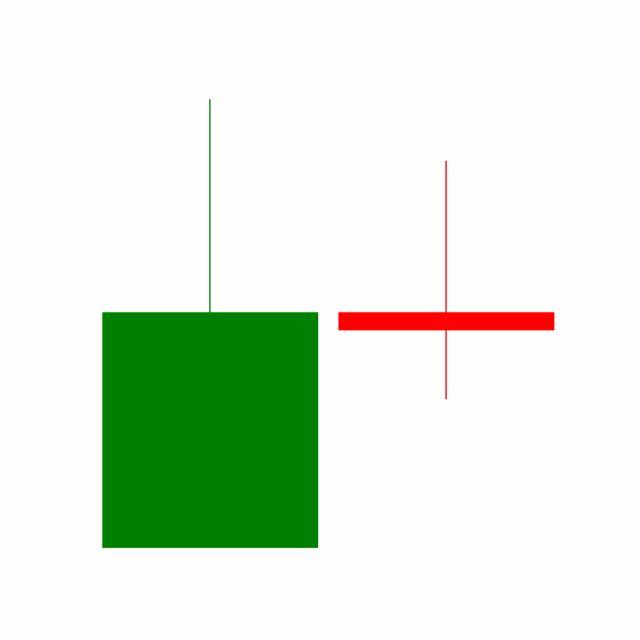Spinning Top: (328, 159, 566, 404)
